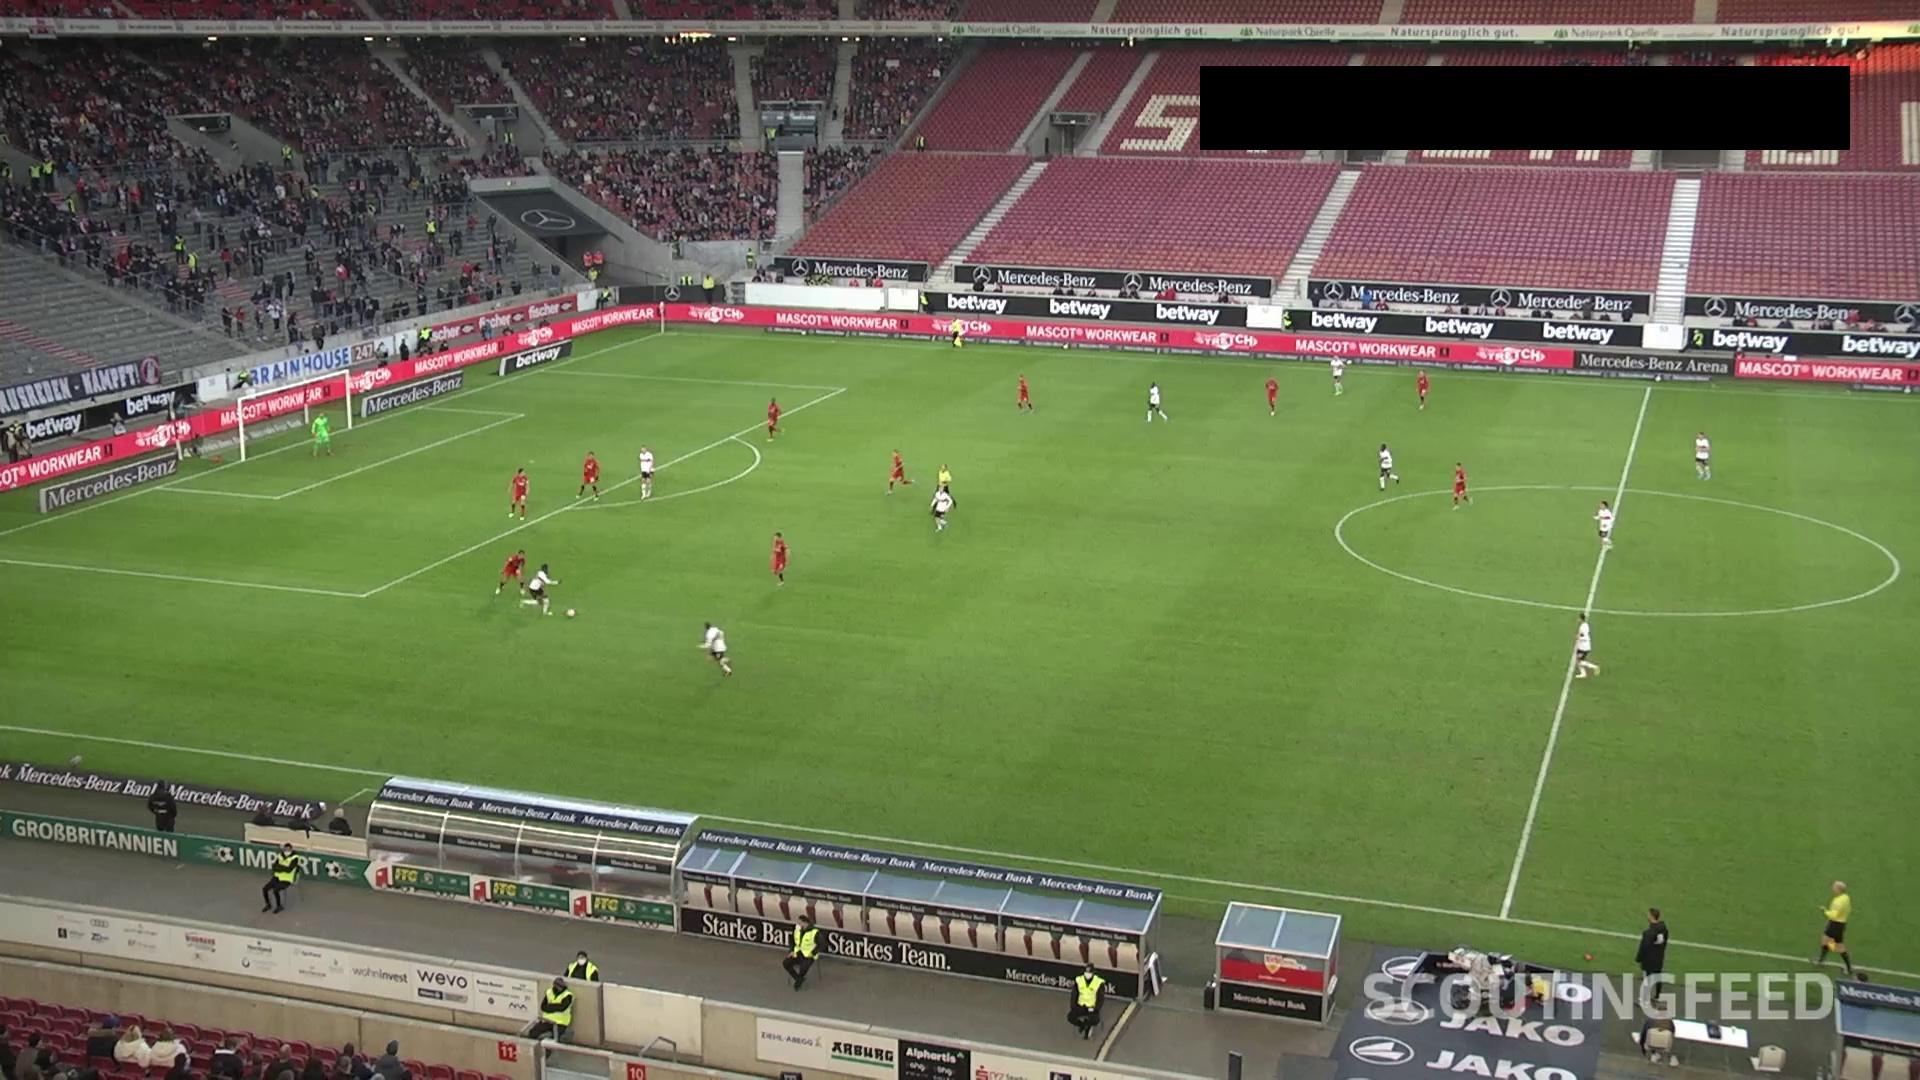Location-of-ball: (554, 599, 591, 625)
